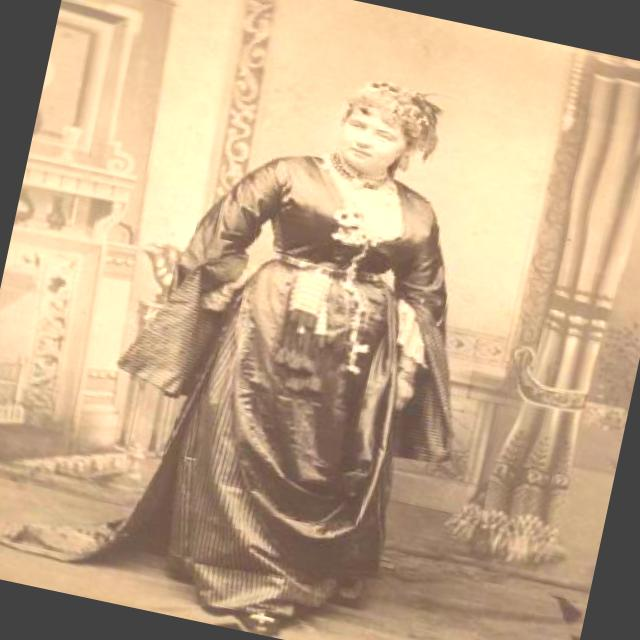Person: (70, 27, 536, 640)
